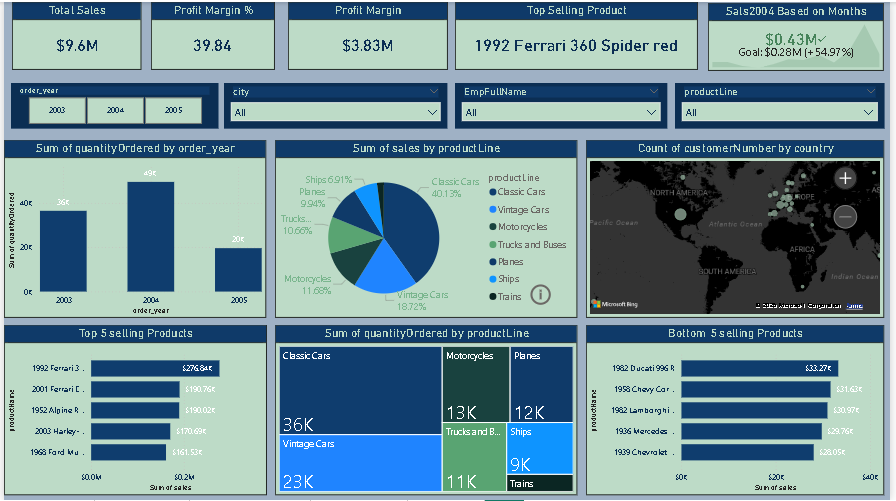

The dashboard page shown, as its layout file describes it:
{"tool":"powerbi","page":{"name":"Sales_Dashboard","canvas":[1280,720],"ordinal":0},"visuals":[{"type":"card","title":"Profit Margin","fields":{"Values":["order details.total_profit"]},"box":[410,0,230.7,98.4],"z":0},{"type":"card","title":"Top Selling Product","fields":{"Values":["order details.Most Ordered Product"]},"box":[652.4,0,351.2,98.4],"z":1000},{"type":"barChart","title":"Top 5 selling Products","fields":{"Category":["products.productName"],"Y":["order details.sales"]},"box":[0,467,380.2,245.8],"z":2000},{"type":"pieChart","fields":{"Category":["productlines.productLine"],"Y":["order details.sales"]},"box":[391.8,199.5,436.6,257.3],"z":3000},{"type":"slicer","fields":{"Values":["orders.order_year"]},"box":[10.3,117.6,299.8,66.1],"z":4000},{"type":"kpi","title":"Sals2004 Based  on Months","fields":{"Goal":["orders.sales_2003"],"Indicator":["orders.sales_2004"],"TrendLine":["orders.Month Name"]},"box":[1018.3,1.5,254.2,98.4],"z":5000},{"type":"map","fields":{"Size":["customers.customerNumber"],"Category":["customers.country"]},"box":[841.4,200,431.4,257.1],"z":6000},{"type":"treemap","fields":{"Group":["productlines.productLine"],"Values":["order details.quantityOrdered"]},"box":[391.4,467.1,437.1,245.7],"z":7000},{"type":"columnChart","fields":{"Category":["orders.order_year"],"Y":["order details.quantityOrdered"]},"box":[0,200,378.6,257.1],"z":8000},{"type":"card","title":"Profit Margin %","fields":{"Values":["order details.Profit_Margin_%"]},"box":[213.1,0,179.3,98.4],"z":9000},{"type":"card","title":"Total Sales","fields":{"Values":["order details.sales"]},"box":[11.8,0,186.6,98.4],"z":10000},{"type":"slicer","fields":{"Values":["offices.city"]},"box":[317.4,117.6,323.3,66.1],"z":11000},{"type":"slicer","fields":{"Values":["employees.EmpFullName"]},"box":[652.4,117.6,307.1,66.1],"z":12000},{"type":"slicer","fields":{"Values":["productlines.productLine"]},"box":[969.8,117.6,302.7,66.1],"z":13000},{"type":"barChart","title":"Bottom 5 selling Products","fields":{"Category":["products.productName"],"Y":["order details.sales"]},"box":[841.4,467.1,431.4,245.7],"z":14000},{"type":"actionButton","box":[755.9,402.9,100,39.4],"z":15000}]}

Visuals, with their boxes in screenshot pixels (x1, y1, x2, y2), scaled from the page's 1280x720 canvas onto the 896x501 screenshot:
"Profit Margin" card: l=287, t=0, r=448, b=68
"Top Selling Product" card: l=457, t=0, r=703, b=68
"Top 5 selling Products" barChart: l=0, t=325, r=266, b=496
pieChart - productlines.productLine x order details.sales: l=274, t=139, r=580, b=318
slicer - orders.order_year: l=7, t=82, r=217, b=128
"Sals2004 Based  on Months" kpi: l=713, t=1, r=891, b=70
map - customers.customerNumber x customers.country: l=589, t=139, r=891, b=318
treemap - productlines.productLine x order details.quantityOrdered: l=274, t=325, r=580, b=496
columnChart - orders.order_year x order details.quantityOrdered: l=0, t=139, r=265, b=318
"Profit Margin %" card: l=149, t=0, r=275, b=68
"Total Sales" card: l=8, t=0, r=139, b=68
slicer - offices.city: l=222, t=82, r=448, b=128
slicer - employees.EmpFullName: l=457, t=82, r=672, b=128
slicer - productlines.productLine: l=679, t=82, r=891, b=128
"Bottom 5 selling Products" barChart: l=589, t=325, r=891, b=496
actionButton: l=529, t=280, r=599, b=308
